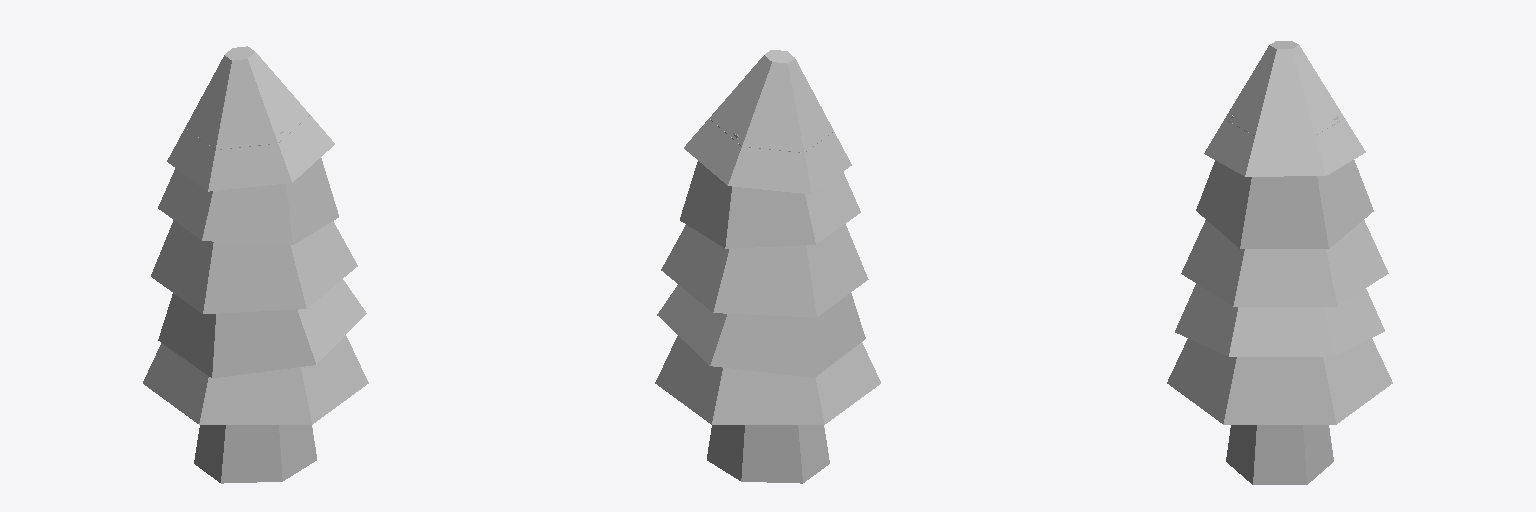
File: tree1.obj
The picture shows the model from 3 angles: view 1: azimuth 30°, elevation 25°; view 2: azimuth 150°, elevation 25°; view 3: azimuth 270°, elevation 25°; orthographic projection.
Visible parts, largest first — view 1: Cylinder.005, Cylinder.003, Cylinder.002, Cylinder.001, Cylinder.004, Cylinder; view 2: Cylinder.005, Cylinder.003, Cylinder.001, Cylinder.002, Cylinder.004, Cylinder; view 3: Cylinder.001, Cylinder.005, Cylinder.003, Cylinder.004, Cylinder.002, Cylinder.
Boxes of the visible parts, <box> form: Cylinder.005: <box>167,46,334,191</box>; Cylinder.003: <box>151,220,357,313</box>; Cylinder.002: <box>158,279,366,377</box>; Cylinder.001: <box>143,335,368,424</box>; Cylinder.004: <box>158,131,338,244</box>; Cylinder: <box>194,425,316,483</box>; Cylinder.005: <box>684,50,851,194</box>; Cylinder.003: <box>661,224,868,317</box>; Cylinder.001: <box>655,336,880,424</box>; Cylinder.002: <box>657,285,865,377</box>; Cylinder.004: <box>680,133,860,248</box>; Cylinder: <box>707,425,829,483</box>; Cylinder.001: <box>1167,338,1392,424</box>; Cylinder.005: <box>1204,41,1365,176</box>; Cylinder.003: <box>1181,220,1388,306</box>; Cylinder.004: <box>1196,115,1373,248</box>; Cylinder.002: <box>1175,284,1384,356</box>; Cylinder: <box>1226,425,1333,484</box>.
Bounding box in the file's own units: 0.5171 × 1.19 × 0.5949.